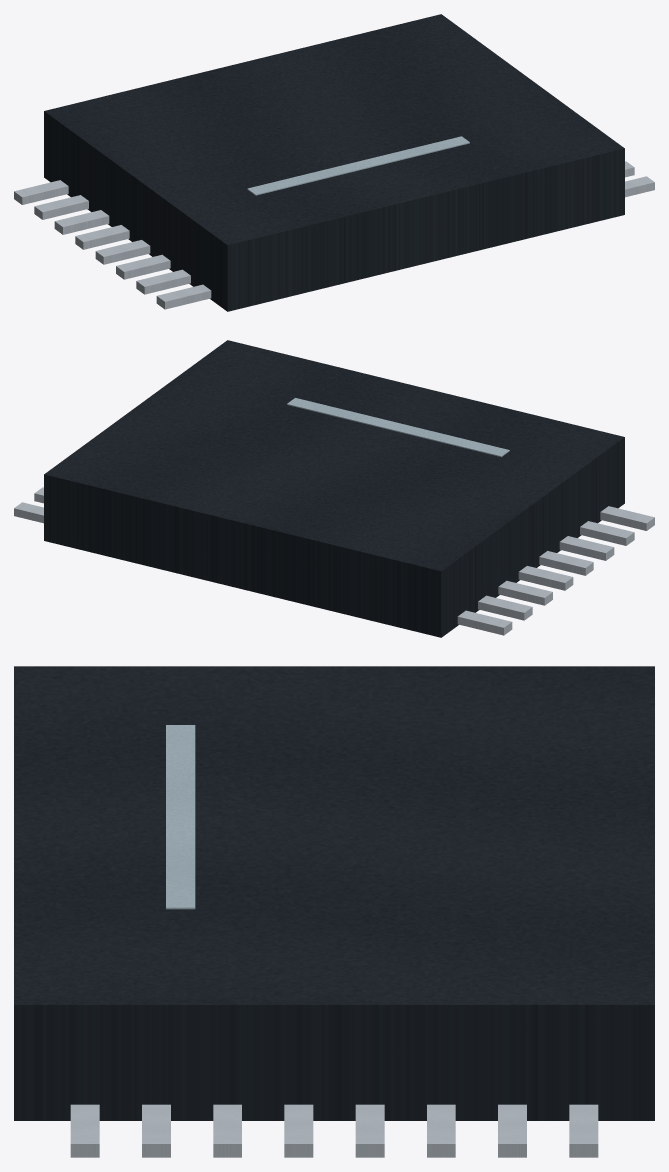
3 views of the same model, one above another, from view 1: azimuth 30°, elevation 25°; view 2: azimuth 150°, elevation 25°; view 3: azimuth 270°, elevation 25° (orthographic). The views are drawn at different scales.
Visible parts, largest first — view 1: Part000__PSMAT__IC_Epoxy, Part001__PSMAT__IC_Laser, Part004__PSMAT__Tin_Solder, Part006__PSMAT__Tin_Solder, Part009__PSMAT__Tin_Solder, Part007__PSMAT__Tin_Solder, Part008__PSMAT__Tin_Solder, Part002__PSMAT__Tin_Solder, Part003__PSMAT__Tin_Solder, Part005__PSMAT__Tin_Solder, Part017__PSMAT__Tin_Solder; view 2: Part000__PSMAT__IC_Epoxy, Part001__PSMAT__IC_Laser, Part002__PSMAT__Tin_Solder, Part005__PSMAT__Tin_Solder, Part007__PSMAT__Tin_Solder, Part003__PSMAT__Tin_Solder, Part004__PSMAT__Tin_Solder, Part006__PSMAT__Tin_Solder, Part008__PSMAT__Tin_Solder, Part009__PSMAT__Tin_Solder, Part010__PSMAT__Tin_Solder; view 3: Part000__PSMAT__IC_Epoxy, Part001__PSMAT__IC_Laser, Part010__PSMAT__Tin_Solder, Part013__PSMAT__Tin_Solder, Part014__PSMAT__Tin_Solder, Part017__PSMAT__Tin_Solder, Part011__PSMAT__Tin_Solder, Part012__PSMAT__Tin_Solder, Part015__PSMAT__Tin_Solder, Part016__PSMAT__Tin_Solder.
Boxes of the visible parts, x1=… form: Part000__PSMAT__IC_Epoxy: x1=44, y1=14, x2=624, y2=311; Part001__PSMAT__IC_Laser: x1=247, y1=136, x2=469, y2=195; Part004__PSMAT__Tin_Solder: x1=54, y1=210, x2=109, y2=234; Part006__PSMAT__Tin_Solder: x1=95, y1=240, x2=150, y2=264; Part009__PSMAT__Tin_Solder: x1=156, y1=284, x2=211, y2=309; Part007__PSMAT__Tin_Solder: x1=116, y1=254, x2=170, y2=279; Part008__PSMAT__Tin_Solder: x1=136, y1=269, x2=190, y2=294; Part002__PSMAT__Tin_Solder: x1=14, y1=180, x2=68, y2=204; Part003__PSMAT__Tin_Solder: x1=34, y1=195, x2=88, y2=219; Part005__PSMAT__Tin_Solder: x1=75, y1=225, x2=129, y2=249; Part017__PSMAT__Tin_Solder: x1=625, y1=176, x2=654, y2=197; Part000__PSMAT__IC_Epoxy: x1=44, y1=340, x2=624, y2=637; Part001__PSMAT__IC_Laser: x1=287, y1=398, x2=509, y2=457; Part002__PSMAT__Tin_Solder: x1=457, y1=610, x2=512, y2=635; Part005__PSMAT__Tin_Solder: x1=518, y1=566, x2=573, y2=590; Part007__PSMAT__Tin_Solder: x1=559, y1=536, x2=614, y2=560; Part003__PSMAT__Tin_Solder: x1=478, y1=595, x2=532, y2=620; Part004__PSMAT__Tin_Solder: x1=498, y1=580, x2=552, y2=605; Part006__PSMAT__Tin_Solder: x1=539, y1=551, x2=593, y2=575; Part008__PSMAT__Tin_Solder: x1=580, y1=521, x2=634, y2=545; Part009__PSMAT__Tin_Solder: x1=600, y1=506, x2=654, y2=530; Part010__PSMAT__Tin_Solder: x1=14, y1=502, x2=43, y2=523; Part000__PSMAT__IC_Epoxy: x1=14, y1=666, x2=654, y2=1120; Part001__PSMAT__IC_Laser: x1=166, y1=725, x2=195, y2=909; Part010__PSMAT__Tin_Solder: x1=569, y1=1104, x2=598, y2=1157; Part013__PSMAT__Tin_Solder: x1=355, y1=1104, x2=384, y2=1157; Part014__PSMAT__Tin_Solder: x1=284, y1=1104, x2=313, y2=1157; Part017__PSMAT__Tin_Solder: x1=70, y1=1104, x2=99, y2=1157; Part011__PSMAT__Tin_Solder: x1=498, y1=1104, x2=526, y2=1157; Part012__PSMAT__Tin_Solder: x1=427, y1=1104, x2=455, y2=1157; Part015__PSMAT__Tin_Solder: x1=213, y1=1104, x2=241, y2=1157; Part016__PSMAT__Tin_Solder: x1=142, y1=1104, x2=170, y2=1157.
Size of the model in its own units: 0.0185 by 0.00245 by 0.012.
3 materials, 3 textured.
